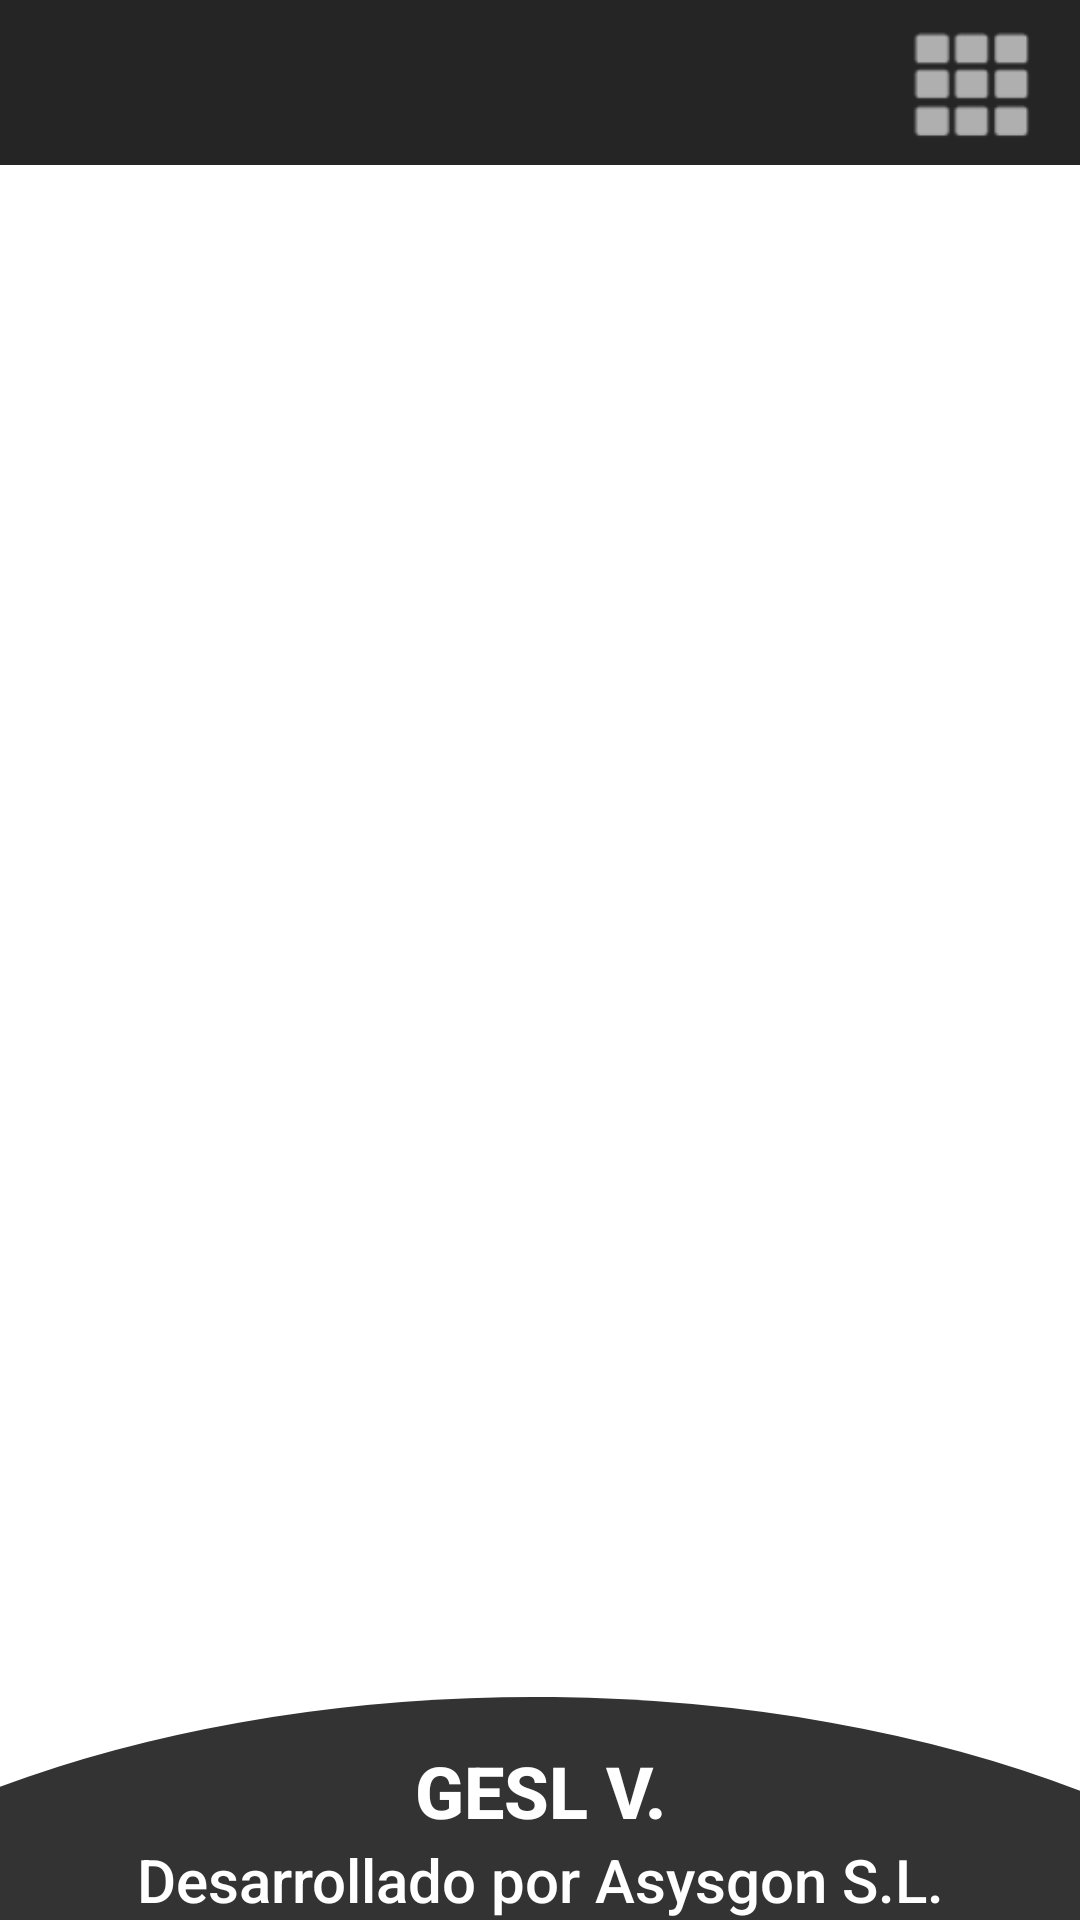

Icons on this 1080 x 1920 Android screen, each with its box as Rect(x1, y1, x2, y2):
dialer: Rect(914, 33, 1029, 136)
